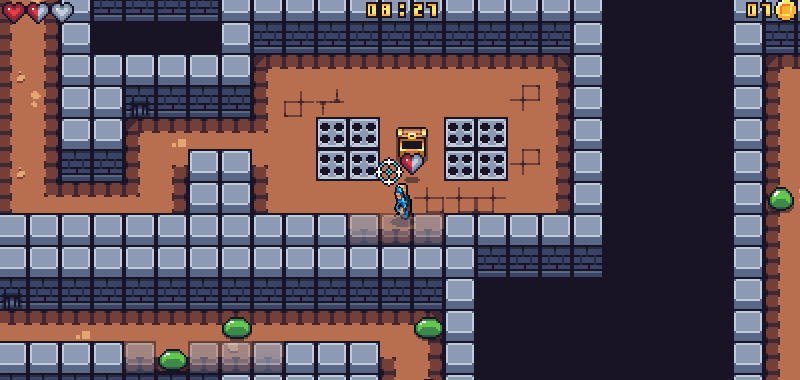enemy_slug: (218, 313, 256, 341), (154, 345, 190, 374), (766, 182, 796, 213), (412, 313, 445, 340)
trap_off: (315, 114, 381, 182), (442, 114, 508, 182)
treasury_open: (394, 124, 430, 163)
